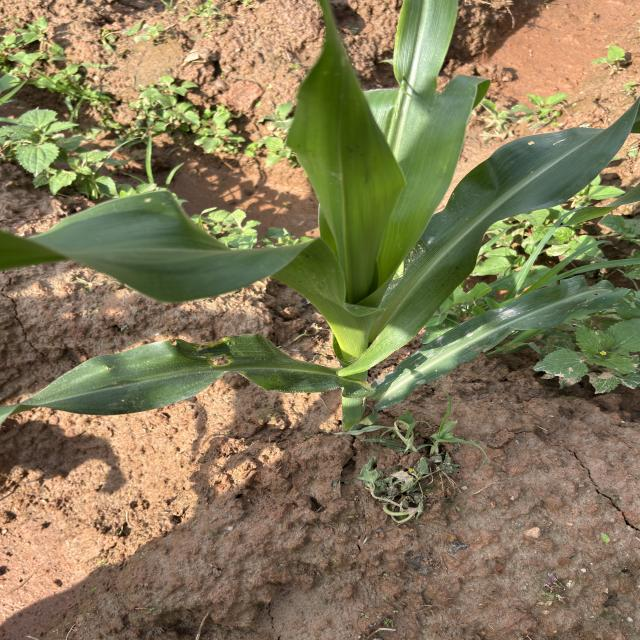maize: (263, 0, 466, 454)
weed: (0, 23, 259, 199), (500, 195, 640, 395), (366, 402, 487, 513), (489, 63, 586, 130), (588, 26, 640, 83)
